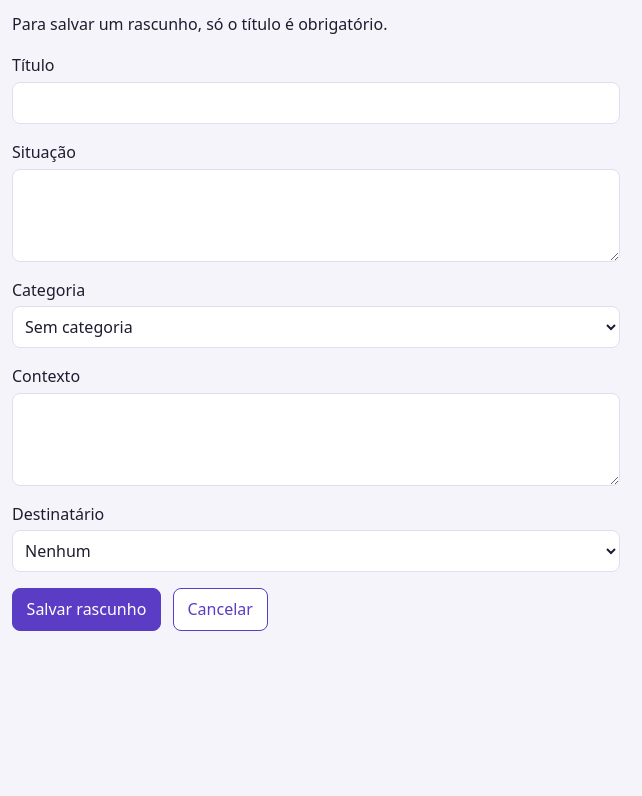
it: sem destinatários cadastrados, o modo cadastrado orienta a informar direto
Select "Escolher cadastrado" in the dropdown labelled "Destinatário": (316, 551) [12,530,620,572]
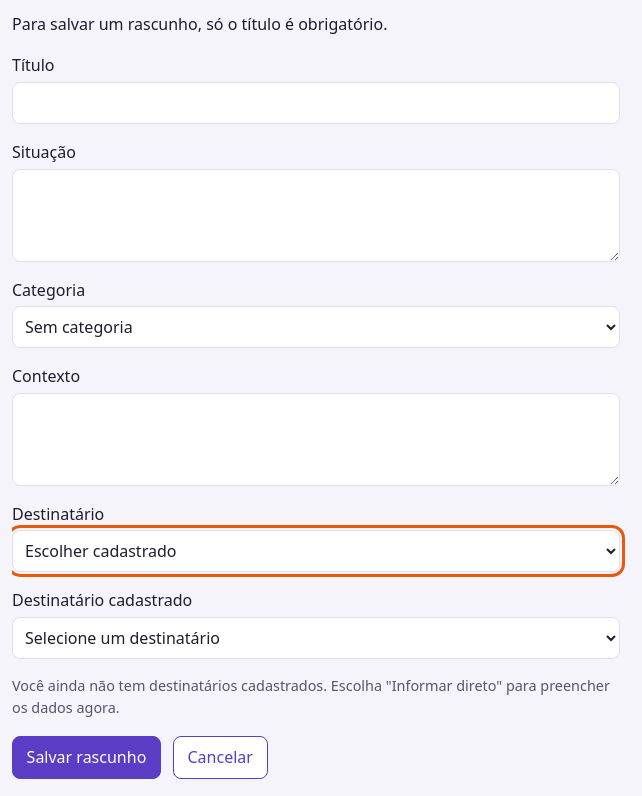
Result: the text "ainda não tem destinatários cadastrados" is shown at [12,676,610,718]
